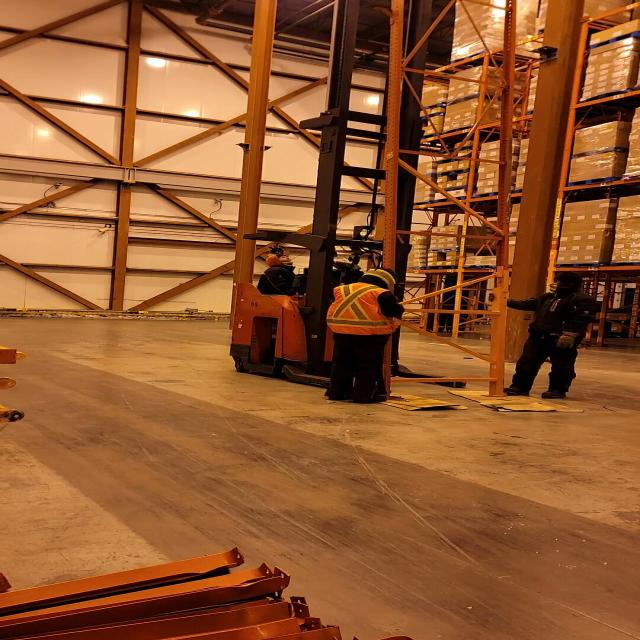forklift: (223, 112, 470, 400)
human: (497, 269, 601, 404), (320, 266, 409, 406), (252, 253, 325, 296)
objectofinterest: (377, 2, 518, 411), (443, 388, 592, 413), (352, 388, 469, 414)
